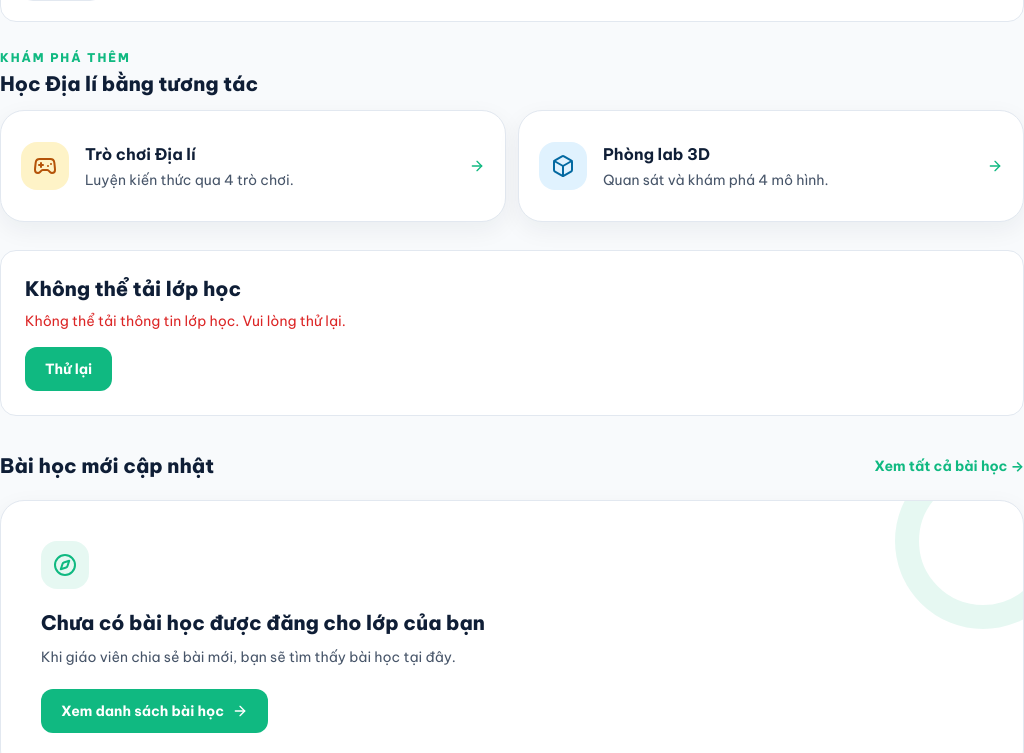
Test case: student dashboard classroom membership › shows an API error without inventing membership and retries successfully
The image size is (1024, 753).
(page scrolled)
expect the message that starts with "Không thể tải lớp học" shows "Vui lòng thử lại": met, box left=25, top=312, right=346, bottom=330
expect the text "10A1 API" is not shown: met
Click the button "Thử lại" below "Không thể tải lớp học".
click(69, 369)  # box left=25, top=347, right=112, bottom=391
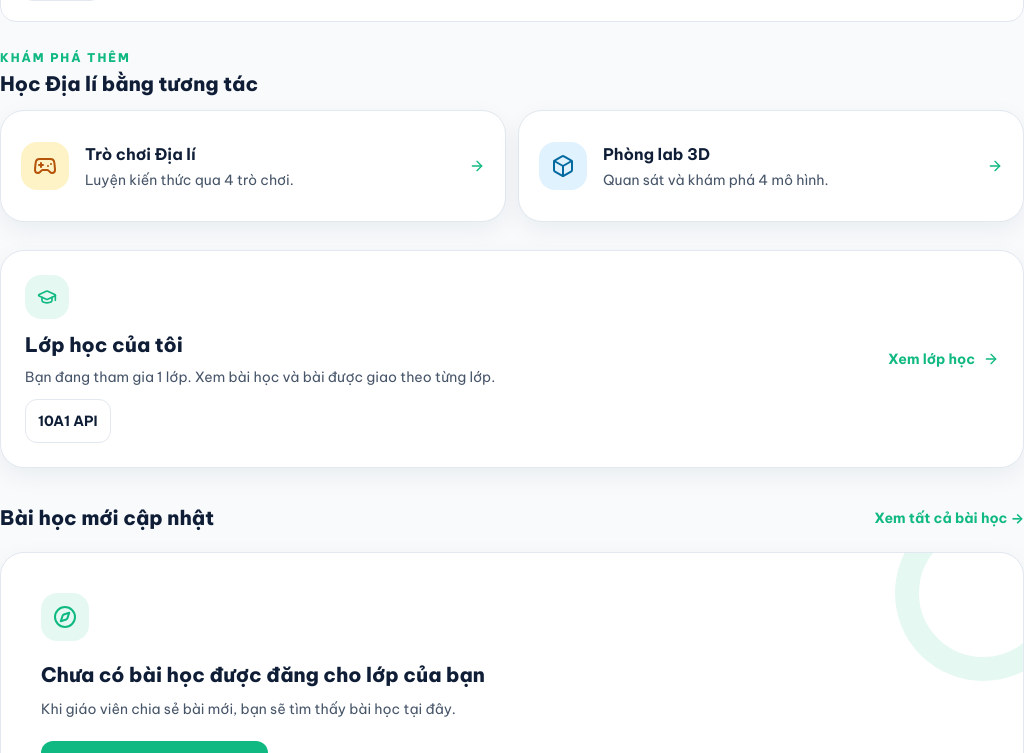
expect the text "10A1 API" is shown: met, box left=25, top=399, right=111, bottom=443
